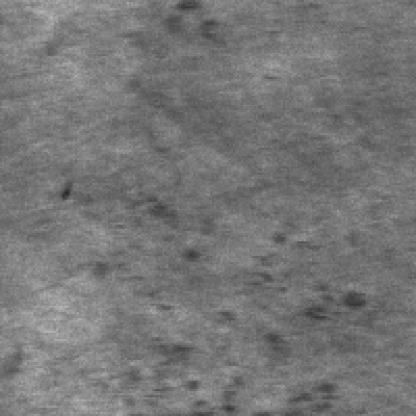rolled-in_scale: (125, 200, 339, 412), (241, 226, 366, 326)
